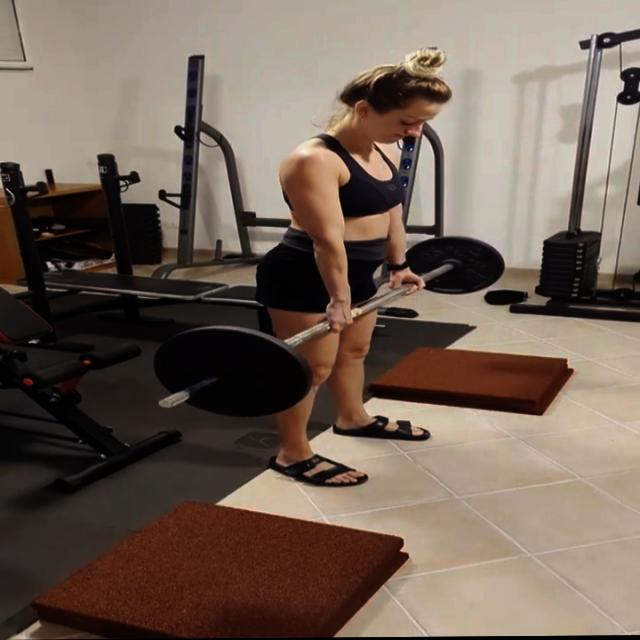barbell: (144, 322, 315, 424)
